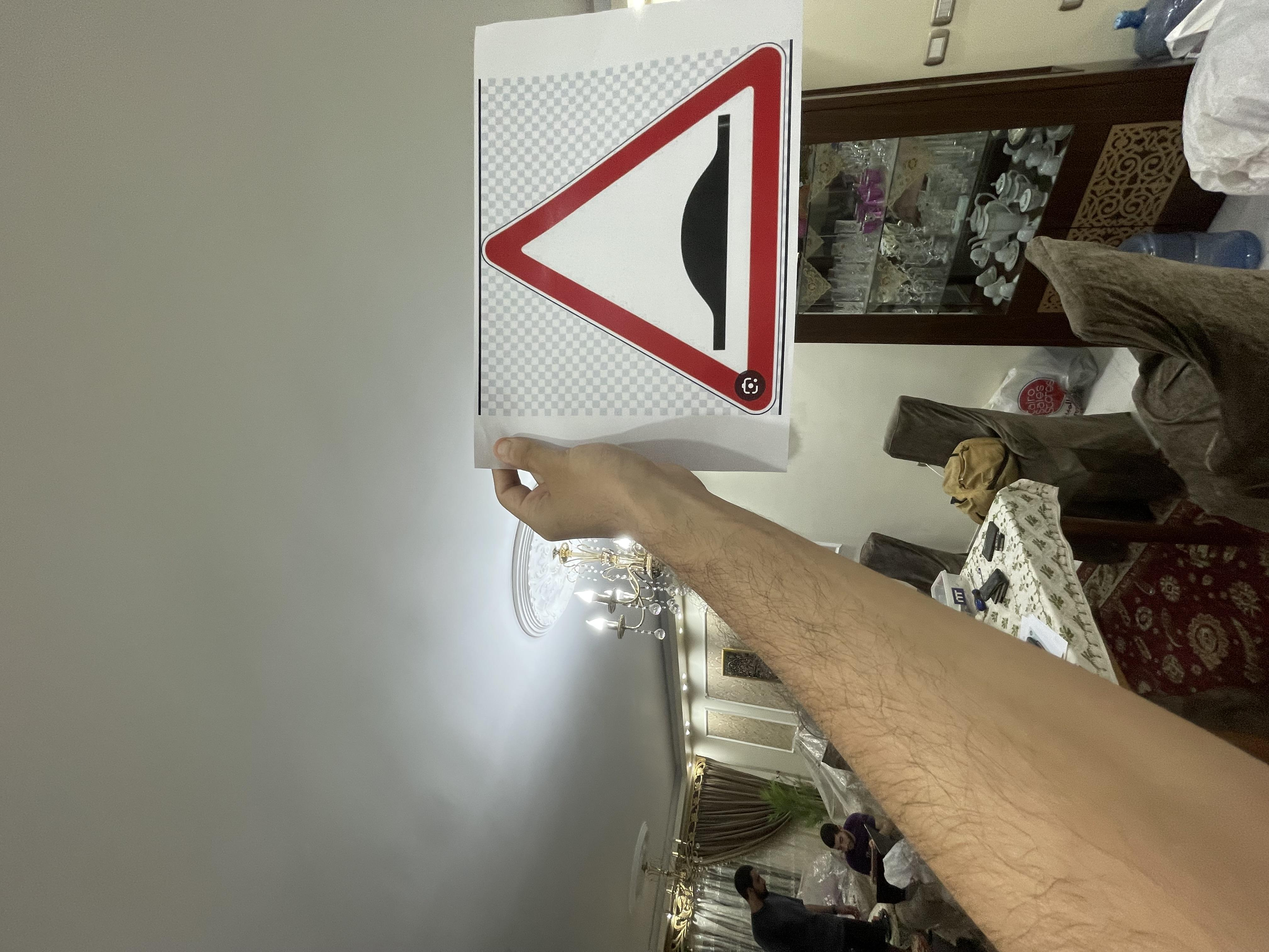Hump: (714, 362, 1218, 592)
